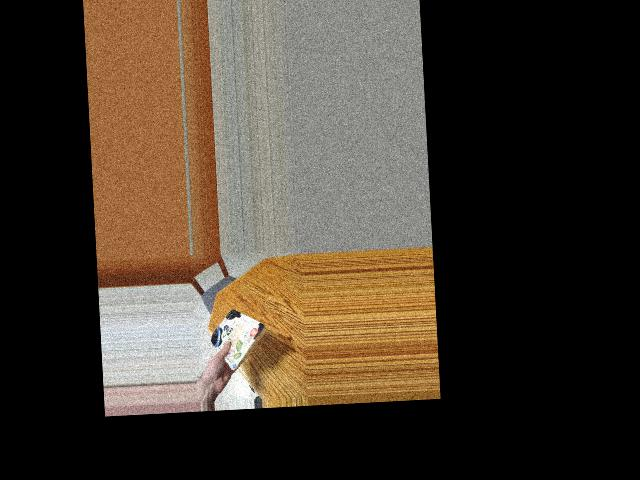cheese: (215, 307, 262, 363)
